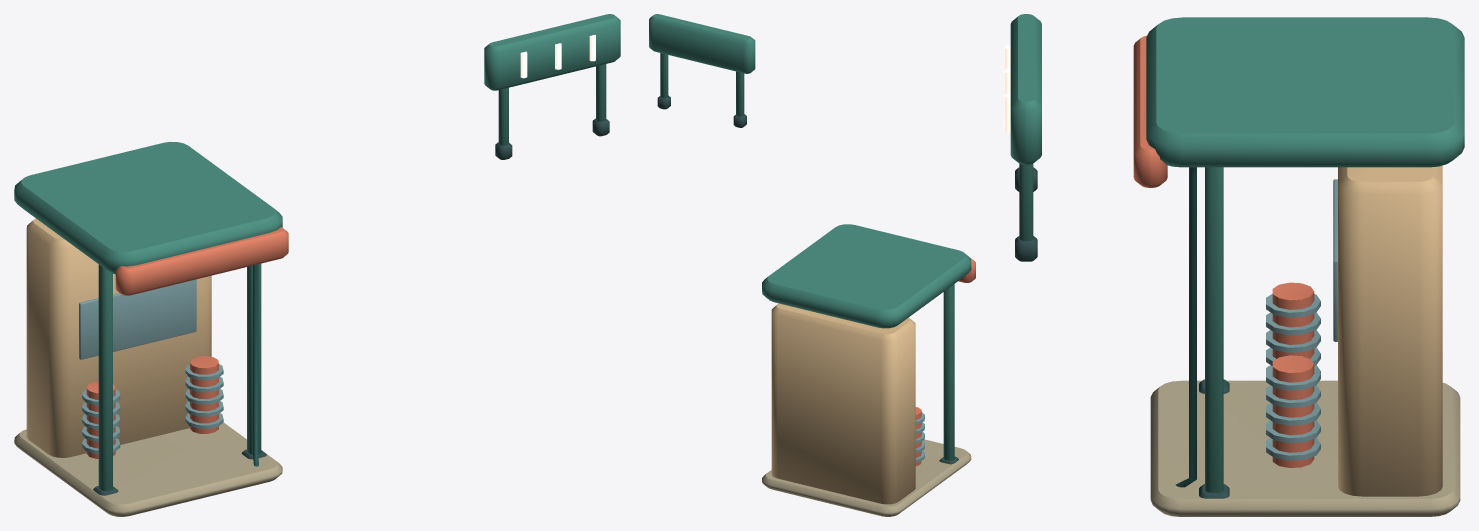
File: tropical_wash_4.glb
The picture shows the model from 3 angles, left to right: view 1: azimuth 30°, elevation 25°; view 2: azimuth 150°, elevation 25°; view 3: azimuth 270°, elevation 25°; orthographic projection. The views are drawn at different scales.
Parts seen in each view (by area): view 1: TropicalWash4; view 2: TropicalWash4; view 3: TropicalWash4.
Part boxes in pixels (x1,y1,x2,y2): TropicalWash4: [14, 14, 620, 516]; TropicalWash4: [649, 14, 975, 516]; TropicalWash4: [1004, 14, 1464, 516].
Size of the model in its own units: 6.17 by 5.45 by 3.69.
